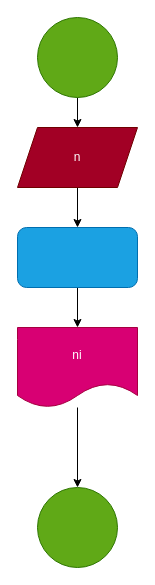
This 155x585 diagram has some shape labels left out. Each missing label, with the centre of its shape:
"Fin" goes at point (77, 527).
"Inicio" goes at point (77, 57).
